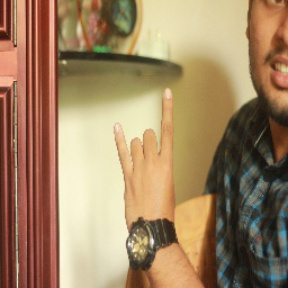V: (110, 89, 189, 225)
